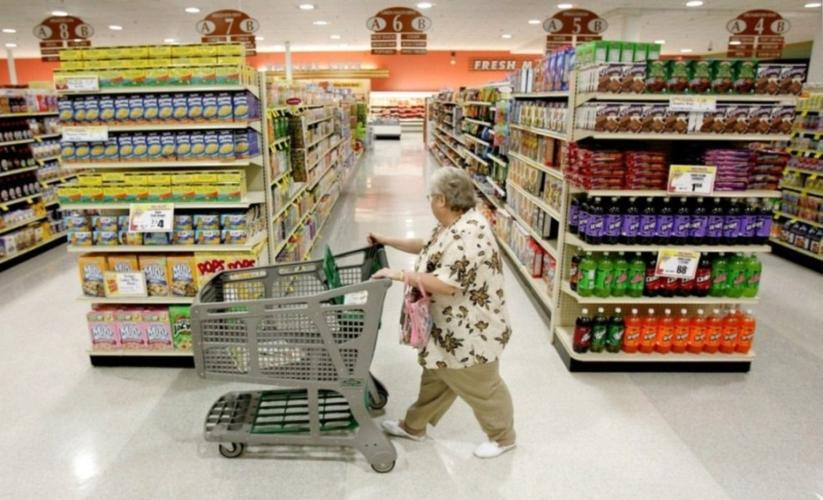person: (369, 166, 524, 460)
